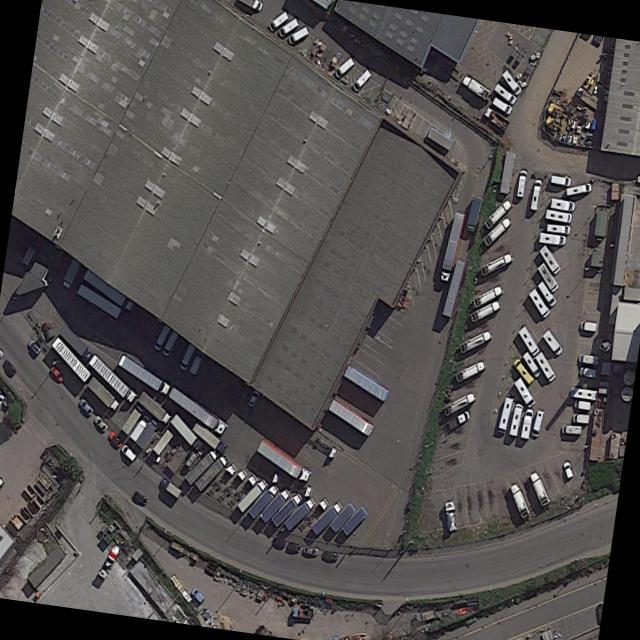large-vehicle: (167, 385, 229, 437), (256, 436, 312, 485), (88, 354, 138, 406), (117, 353, 172, 398), (82, 267, 135, 313), (439, 213, 467, 284), (170, 413, 205, 455), (191, 419, 229, 456), (184, 448, 219, 488), (194, 454, 229, 494), (86, 375, 121, 414), (247, 481, 281, 521), (137, 390, 172, 426), (282, 496, 317, 532), (310, 501, 344, 538), (270, 492, 304, 529), (237, 477, 270, 515), (259, 487, 292, 524), (97, 540, 124, 581), (483, 197, 514, 232), (483, 215, 514, 247), (459, 328, 493, 357), (478, 251, 514, 278), (443, 390, 478, 417), (528, 470, 552, 509), (509, 481, 532, 521), (135, 416, 160, 452), (469, 298, 502, 325), (120, 402, 145, 437), (527, 286, 552, 321), (455, 358, 487, 384), (513, 376, 537, 410), (461, 74, 491, 101), (497, 395, 517, 435), (483, 105, 511, 133), (538, 244, 562, 276), (537, 261, 560, 294), (518, 325, 541, 358), (465, 195, 484, 234), (61, 256, 82, 291), (129, 411, 151, 444), (535, 351, 557, 384), (541, 328, 564, 359), (521, 349, 543, 380), (536, 280, 558, 309), (447, 407, 473, 431), (509, 401, 525, 437), (159, 477, 183, 500), (520, 407, 536, 440), (569, 386, 599, 402), (444, 499, 458, 533), (530, 178, 544, 212), (545, 208, 573, 225), (531, 408, 546, 439), (538, 231, 567, 247), (550, 197, 577, 213), (566, 182, 592, 198), (414, 607, 437, 624), (546, 221, 572, 236), (516, 169, 528, 198), (238, 0, 264, 12), (292, 606, 314, 620), (550, 174, 572, 187), (560, 424, 583, 436), (0, 474, 7, 491)
small-vehicle: (512, 357, 535, 385), (493, 81, 518, 106), (178, 342, 197, 374), (502, 69, 523, 97), (153, 323, 172, 353), (161, 329, 180, 359), (267, 10, 291, 33), (334, 55, 356, 80), (352, 67, 373, 93), (278, 16, 300, 39), (189, 349, 206, 377), (492, 95, 514, 116), (288, 25, 309, 46), (77, 397, 95, 418), (120, 442, 138, 463), (49, 363, 66, 384), (108, 429, 124, 449), (93, 414, 109, 434), (578, 353, 600, 367), (132, 490, 149, 508), (247, 389, 261, 410), (27, 338, 43, 356), (3, 358, 18, 377), (191, 586, 206, 605), (579, 366, 598, 379), (563, 459, 574, 480), (572, 413, 591, 425), (580, 320, 598, 332), (573, 399, 592, 410), (287, 542, 302, 553), (322, 551, 338, 561), (303, 546, 319, 556), (272, 537, 286, 547), (0, 392, 6, 411)
